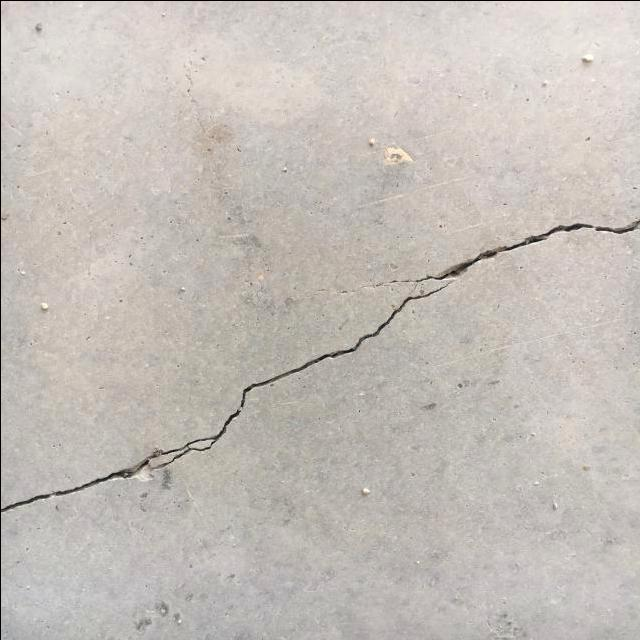SurfaceCrack: (0, 160, 639, 576)
